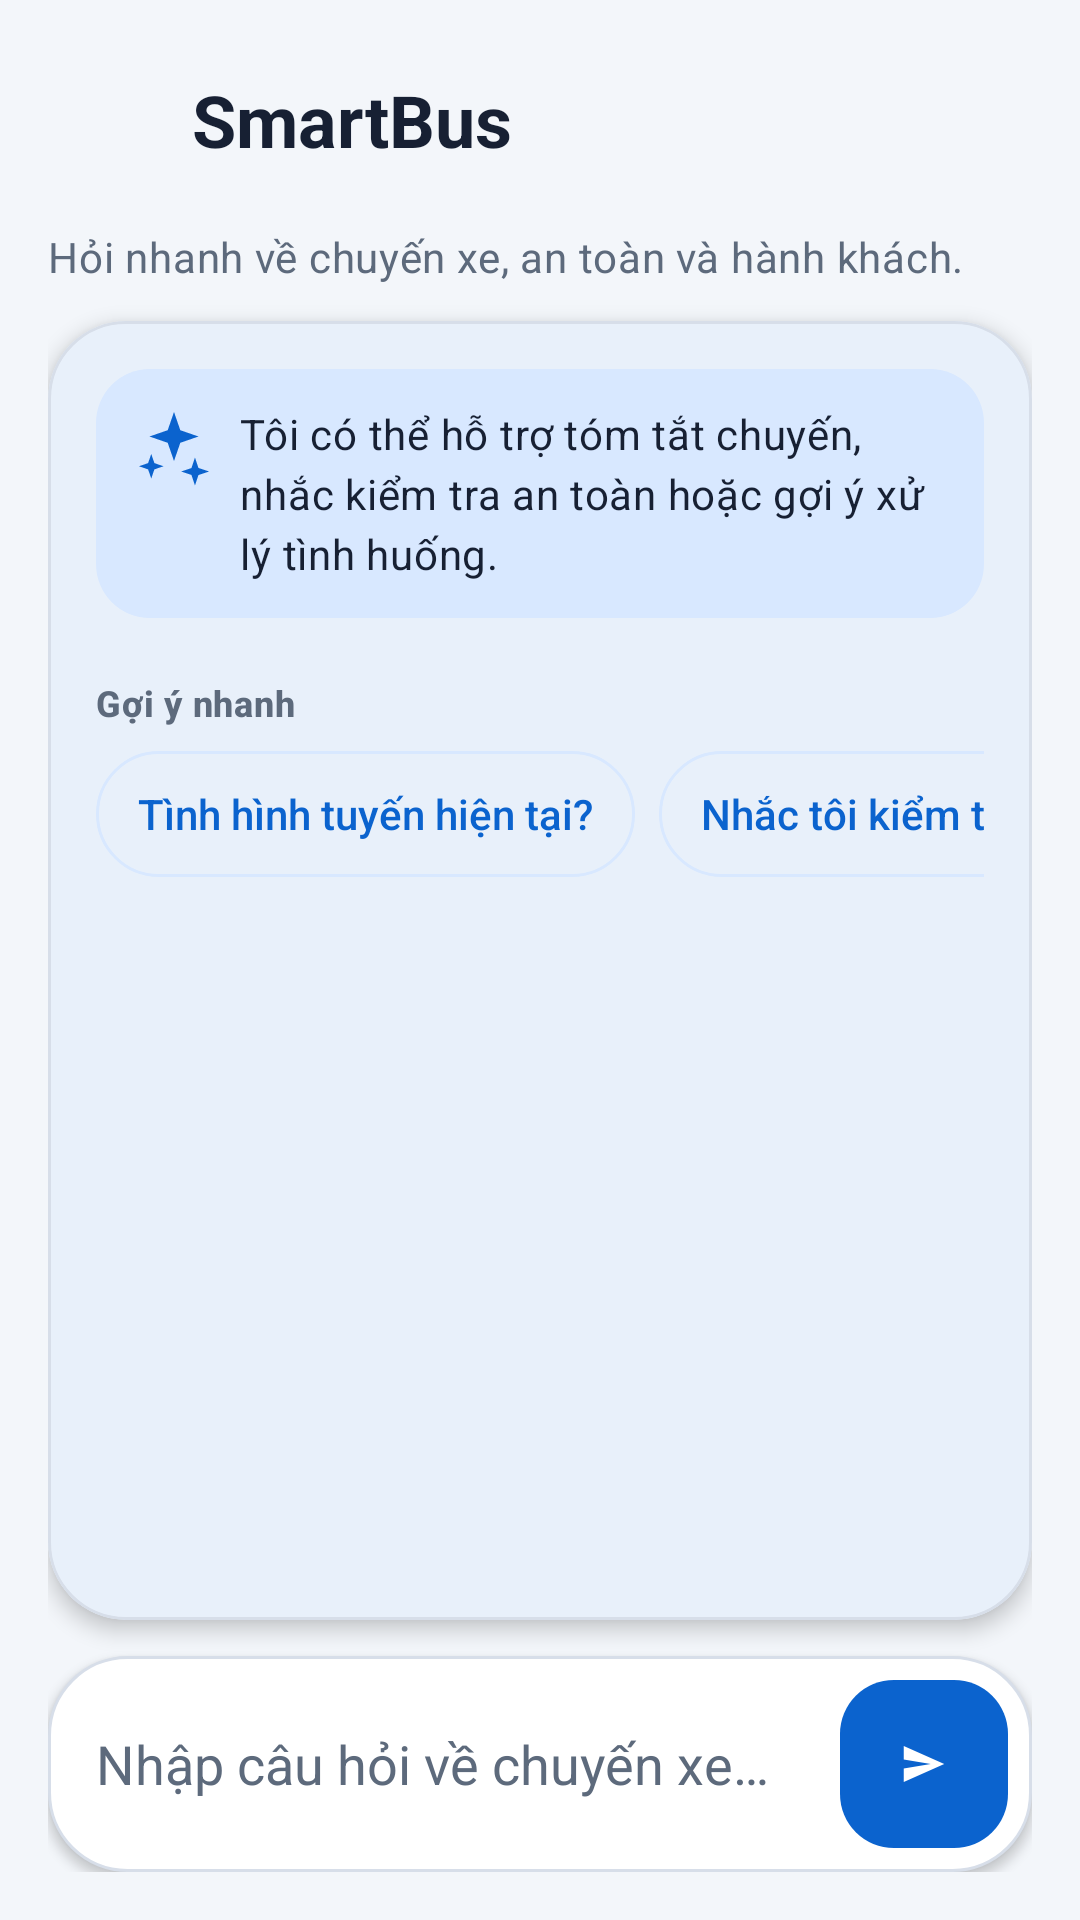

Locate icon controls on the screen. Image size 1080x1920, boxes as (x1, y1, x2, y2).
Gửi: (840, 1680, 1008, 1848)
Trợ lý AI: (139, 412, 209, 485)
